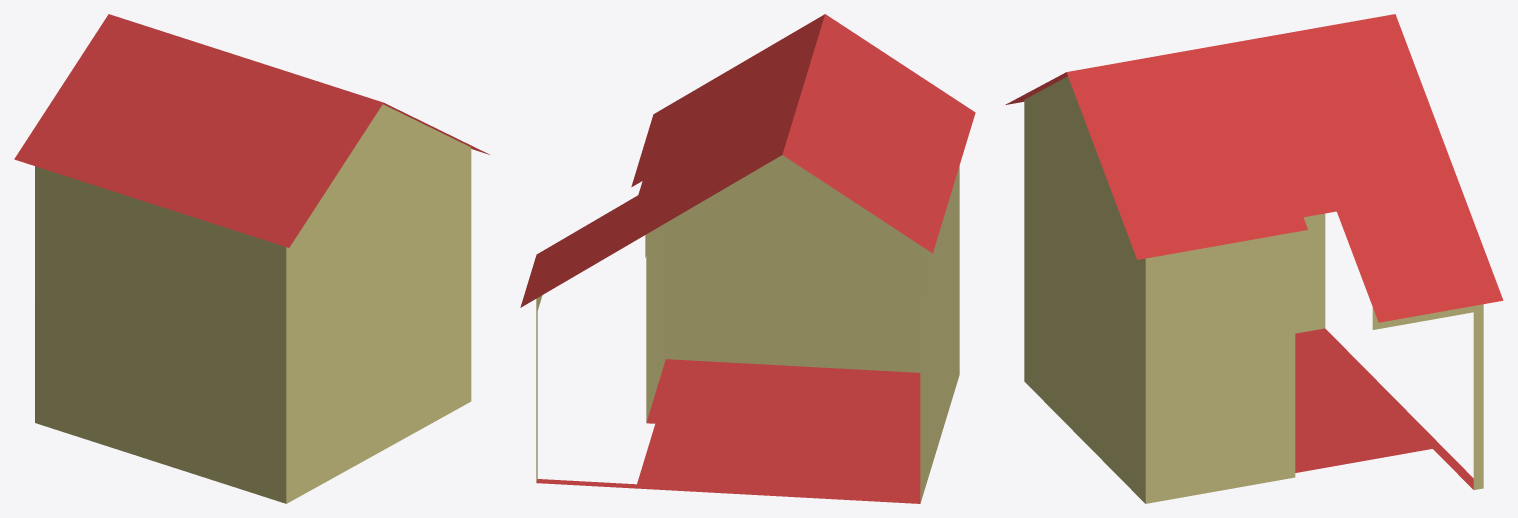
3 views of the same model, side by side, from view 1: azimuth 30°, elevation 25°; view 2: azimuth 150°, elevation 25°; view 3: azimuth 270°, elevation 25° (orthographic). The views are drawn at different scales.
Bounding box in the file's own units: 15.05 × 16.35 × 13.33.
